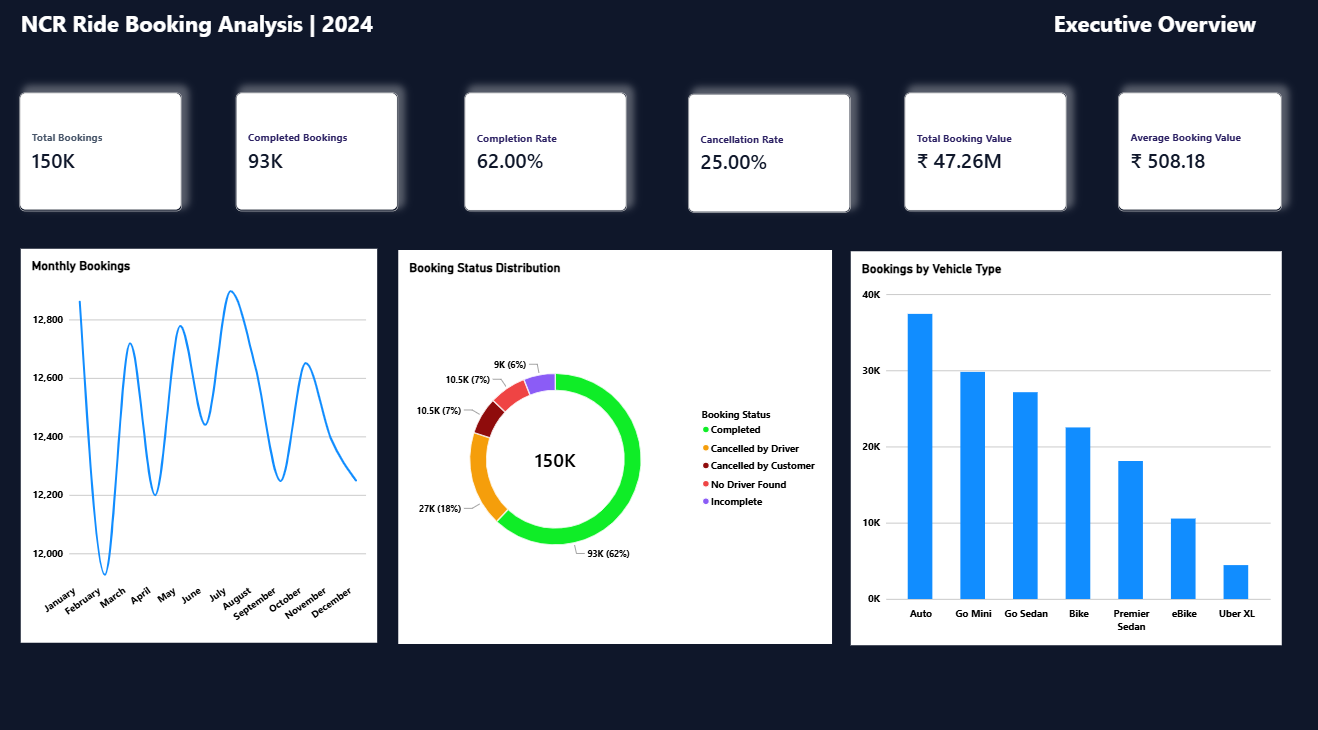

Layout of this report page (visuals, bound fields, positions):
{"tool":"powerbi","page":{"name":"Executive Overview","canvas":[1920,1080],"ordinal":0},"visuals":[{"type":"cardVisual","fields":{"Data":["CountNonNull(ncr_ride_bookings_clean.Booking ID)"]},"box":[32.6,148.4,235.3,171.9],"z":0},{"type":"cardVisual","fields":{"Data":["CountNonNull(ncr_ride_bookings_clean.Booking Status)"]},"box":[345.6,148.4,235.3,171.9],"z":1000},{"type":"cardVisual","fields":{"Data":["ncr_ride_bookings_clean.Completion Rate"]},"box":[676.8,148.4,235,172],"z":2000},{"type":"cardVisual","fields":{"Data":["ncr_ride_bookings_clean.Cancellation Rate"]},"box":[1000.7,150.2,235,172],"z":3000},{"type":"cardVisual","fields":{"Data":["ncr_ride_bookings_clean.Total Booking Value"]},"box":[1313.8,148.4,235,172],"z":4000},{"type":"cardVisual","fields":{"Data":["ncr_ride_bookings_clean.Average Booking Value"]},"box":[1623.3,148.4,237.1,171.9],"z":5000},{"type":"lineChart","title":"Monthly Bookings","fields":{"Category":["ncr_ride_bookings_clean.Date.Variation.Date Hierarchy.Month"],"Y":["CountNonNull(ncr_ride_bookings_clean.Booking ID)"]},"box":[34.4,374.6,515.8,570],"z":6000},{"type":"donutChart","title":"Booking Status Distribution","fields":{"Category":["ncr_ride_bookings_clean.Booking Status"],"Y":["CountNonNull(ncr_ride_bookings_clean.Booking ID)"]},"box":[580.9,376.4,628,570],"z":7000},{"type":"clusteredColumnChart","title":"Bookings by Vehicle Type","fields":{"Category":["ncr_ride_bookings_clean.Vehicle Type"],"Y":["CountNonNull(ncr_ride_bookings_clean.Booking ID)"]},"box":[1236,378.2,624.3,570],"z":8000},{"type":"textbox","box":[34,860,516,220],"z":9000},{"type":"textbox","box":[34.4,14.5,1865.8,146.6],"z":10000}]}

Visuals, with their boxes in screenshot pixels (x1, y1, x2, y2), scaled from the page's 1920x1080 canvas onto the 1318x730 screenshot:
cardVisual - CountNonNull(ncr_ride_bookings_clean.Booking ID): bbox=(22, 100, 184, 216)
cardVisual - CountNonNull(ncr_ride_bookings_clean.Booking Status): bbox=(237, 100, 399, 216)
cardVisual - ncr_ride_bookings_clean.Completion Rate: bbox=(465, 100, 626, 217)
cardVisual - ncr_ride_bookings_clean.Cancellation Rate: bbox=(687, 102, 848, 218)
cardVisual - ncr_ride_bookings_clean.Total Booking Value: bbox=(902, 100, 1063, 217)
cardVisual - ncr_ride_bookings_clean.Average Booking Value: bbox=(1114, 100, 1277, 216)
"Monthly Bookings" lineChart: bbox=(24, 253, 378, 638)
"Booking Status Distribution" donutChart: bbox=(399, 254, 830, 640)
"Bookings by Vehicle Type" clusteredColumnChart: bbox=(848, 256, 1277, 641)
textbox: bbox=(23, 581, 378, 729)
textbox: bbox=(24, 10, 1304, 109)
